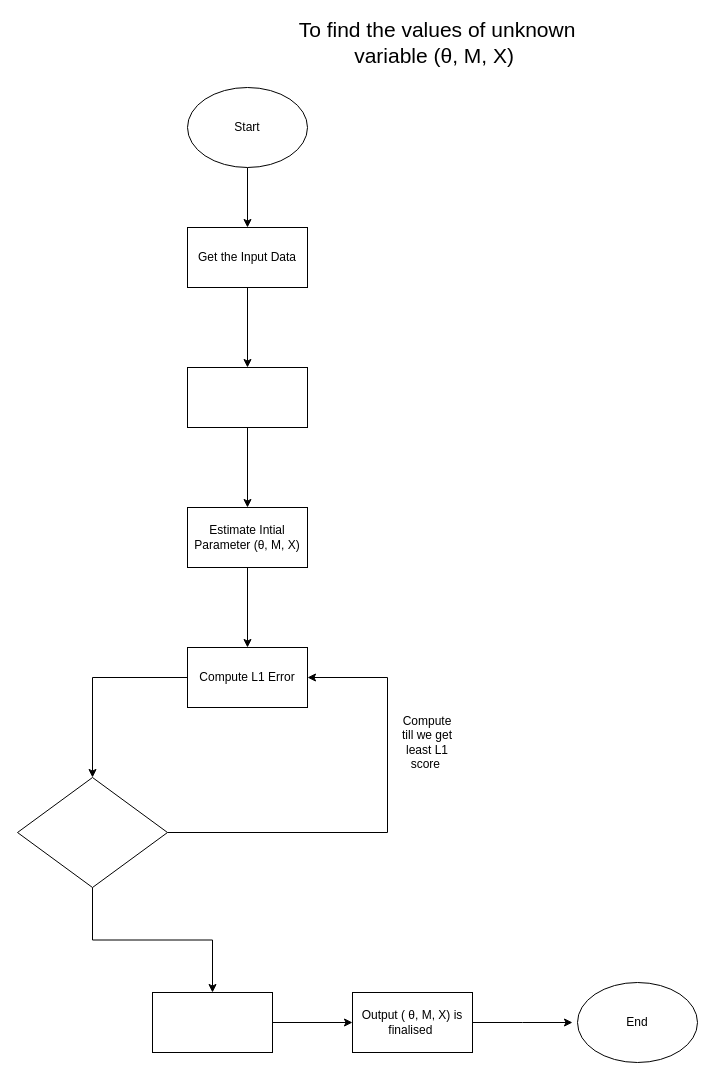
Some shapes in this 715 by 1080 pixel diagram are drawn without their labels. Here are the shapes that lost their labels. From the top down, the centre of each, then its label:
At (x=247, y=397): "Generate t value".
At (x=92, y=832): "Optimisation Process".
At (x=212, y=1022): "Plot and compare with x and y parameters".
